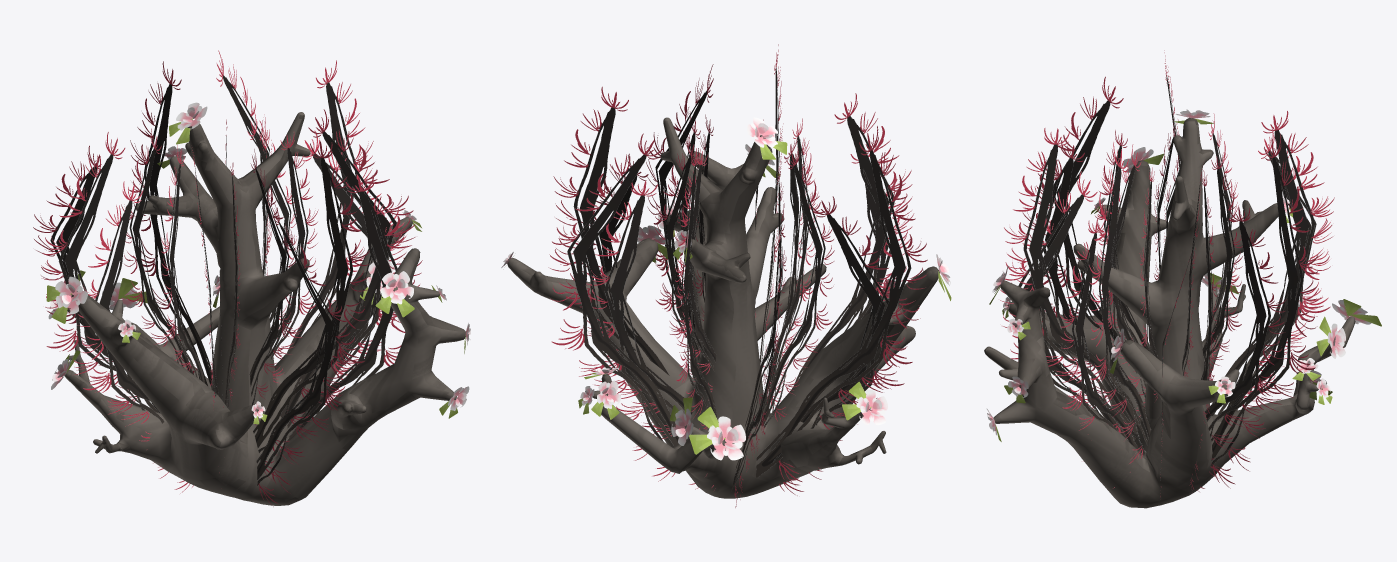
The model's file is hurtbush.fbx.
The picture shows the model from 3 angles, left to right: view 1: azimuth 30°, elevation 25°; view 2: azimuth 150°, elevation 25°; view 3: azimuth 270°, elevation 25°; orthographic projection. The views are drawn at different scales.
Visible parts, largest first — view 1: polySurface2; view 2: polySurface2; view 3: polySurface2.
Part boxes in pixels (left/top/right/bottom): polySurface2: left=33, top=50, right=470, bottom=506; polySurface2: left=501, top=44, right=951, bottom=507; polySurface2: left=984, top=50, right=1381, bottom=508.
Bounding box in the file's own units: 1.25 × 1.31 × 1.1.
Materials: 1 (1 with a texture image).
